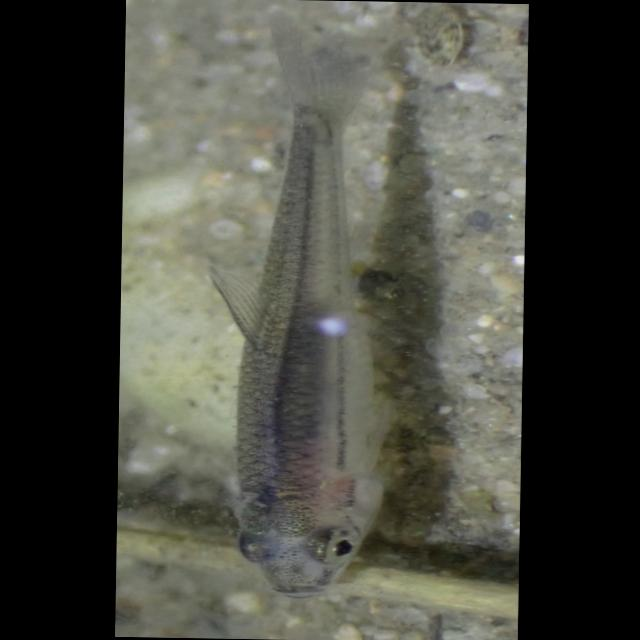Cakil Baligi: (192, 3, 419, 619)
